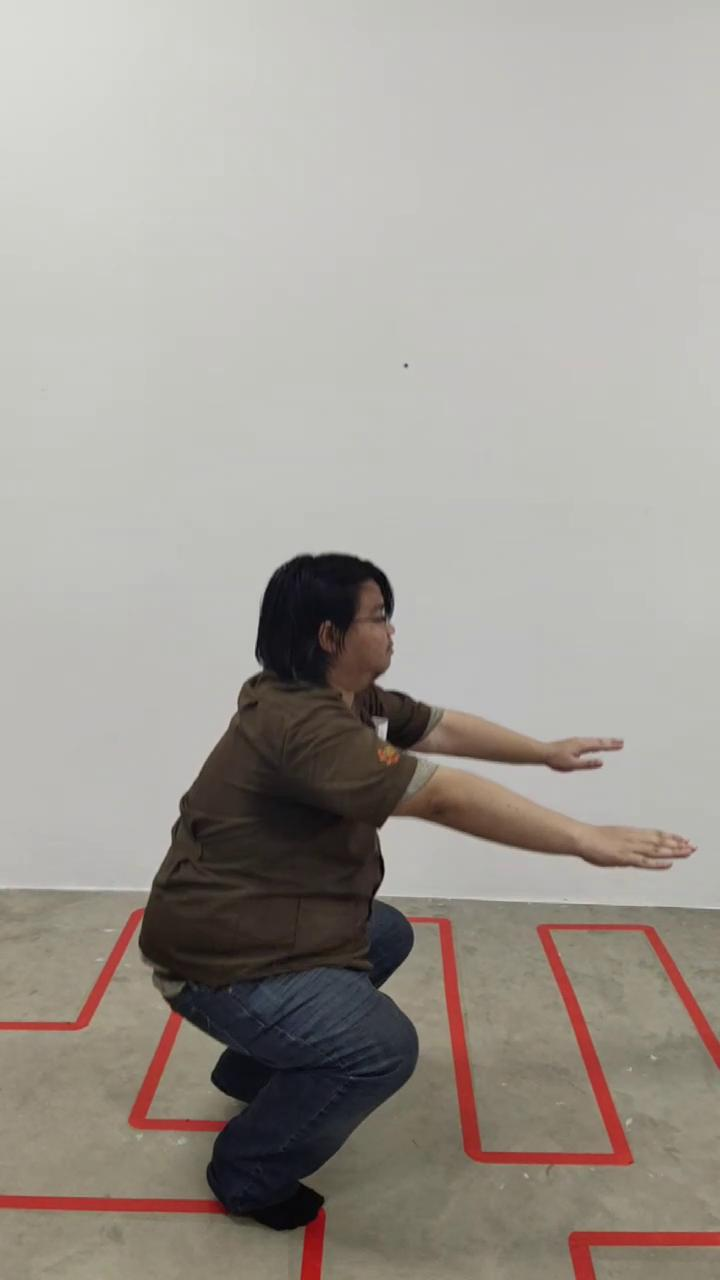squat down: (140, 552, 676, 1241)
